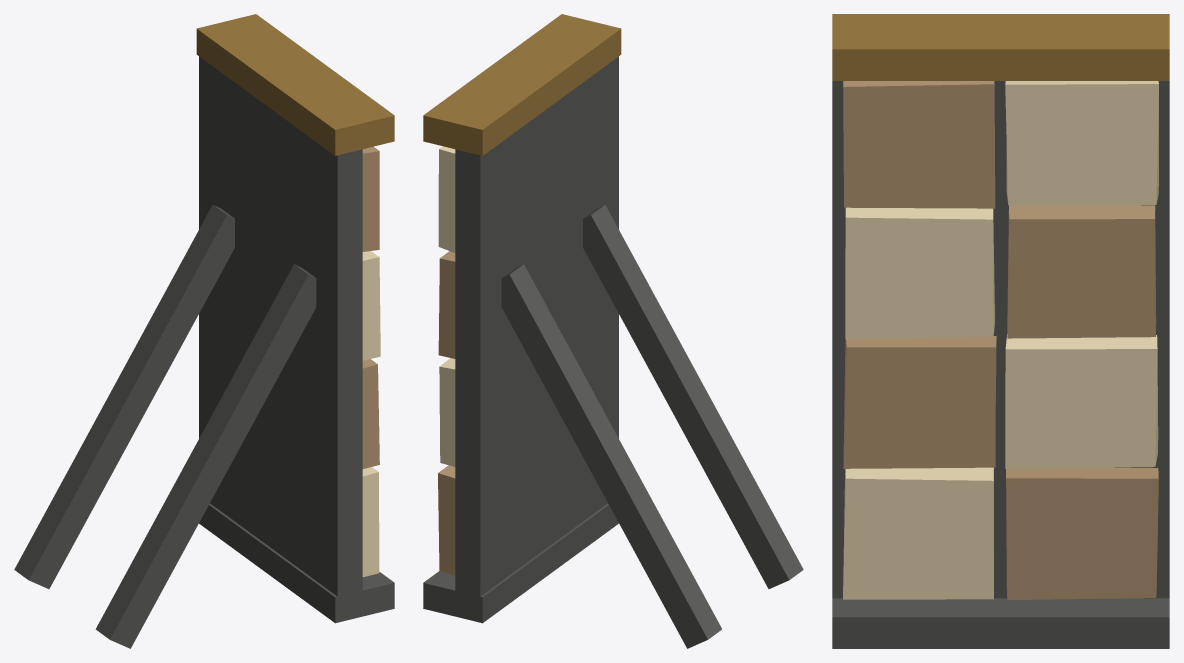
The model's file is arm_ceramic_tile.glb.
3 views of the same model, side by side, from view 1: azimuth 30°, elevation 25°; view 2: azimuth 150°, elevation 25°; view 3: azimuth 270°, elevation 25° (orthographic). The views are drawn at different scales.
Visible parts, largest first — view 1: arm_ceramic_tile; view 2: arm_ceramic_tile; view 3: arm_ceramic_tile.
Boxes of the visible parts, x1=… form: arm_ceramic_tile: x1=14, y1=14, x2=394, y2=648; arm_ceramic_tile: x1=423, y1=14, x2=803, y2=648; arm_ceramic_tile: x1=832, y1=14, x2=1169, y2=648.
Size of the model in its own units: 0.5309 by 0.95 by 0.484.
